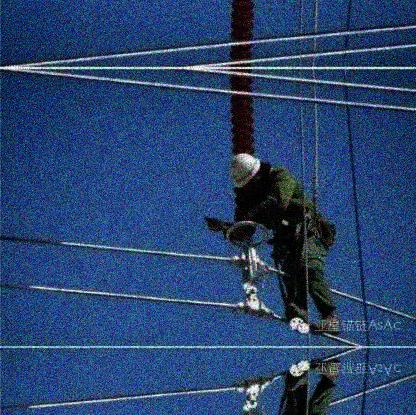helmet: (230, 151, 266, 203)
